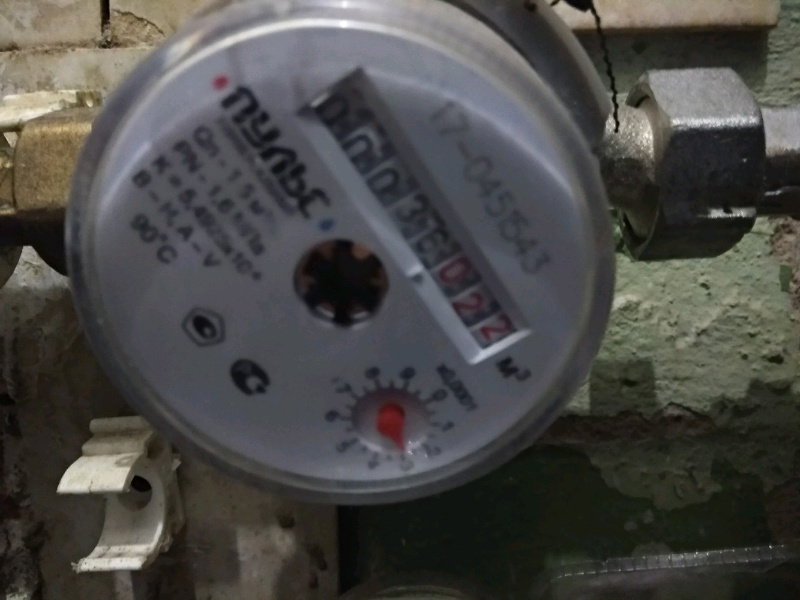meter: (377, 88, 470, 358)
